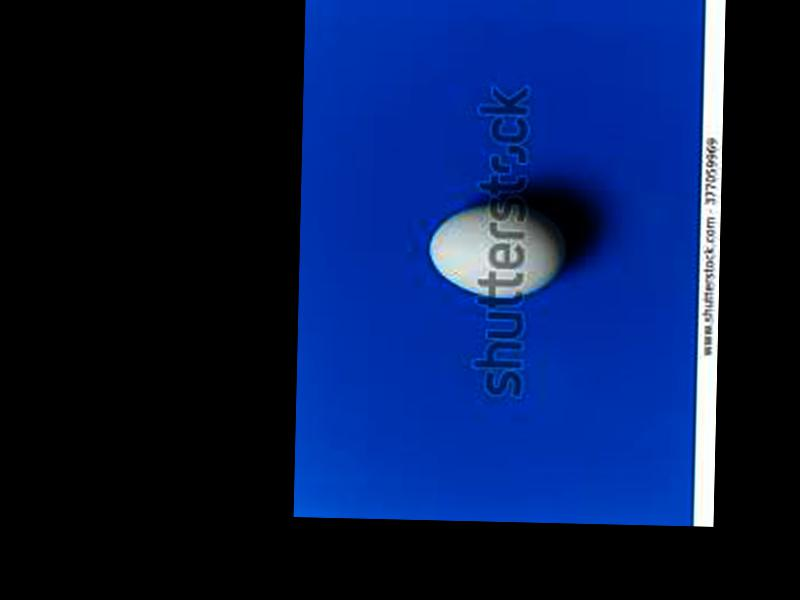Eggs: (424, 202, 567, 297)
